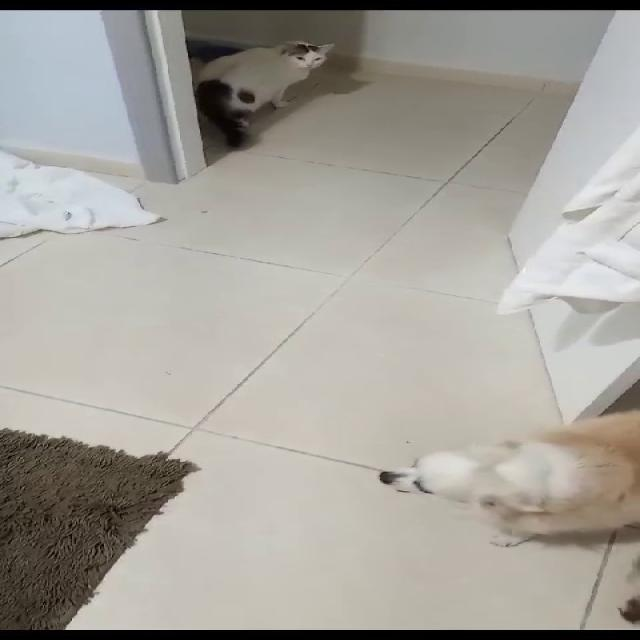Simba: (177, 28, 369, 153)
Theo: (362, 394, 638, 584)
